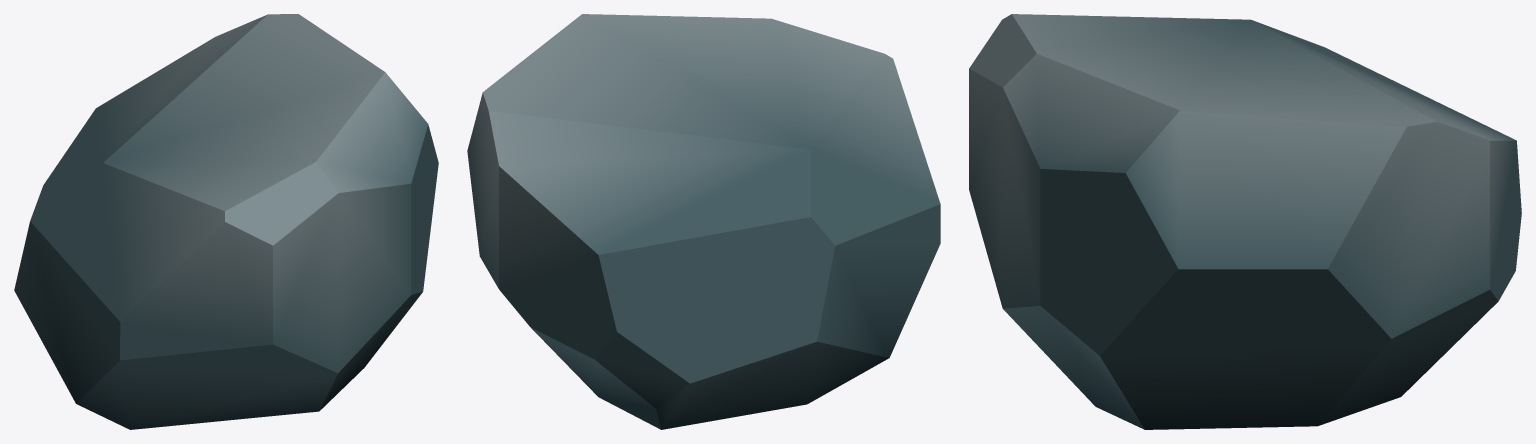
Rendered from Rock 1.fbx.
3 views of the same model, side by side, from view 1: azimuth 30°, elevation 25°; view 2: azimuth 150°, elevation 25°; view 3: azimuth 270°, elevation 25° (orthographic). The views are drawn at different scales.
Parts seen in each view (by area): view 1: Rock 1; view 2: Rock 1; view 3: Rock 1.
Boxes of the visible parts, x1,y1,x2,y2 form: Rock 1: (14,14,438,429); Rock 1: (467,14,940,429); Rock 1: (969,14,1521,429).
Size of the model in its own units: 164 by 136 by 177.
